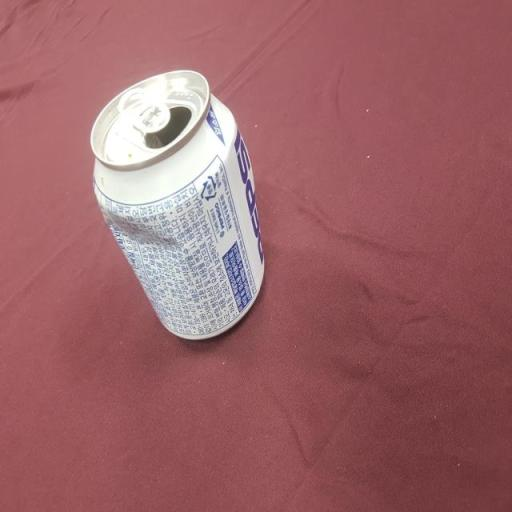metal: (80, 54, 278, 354)
